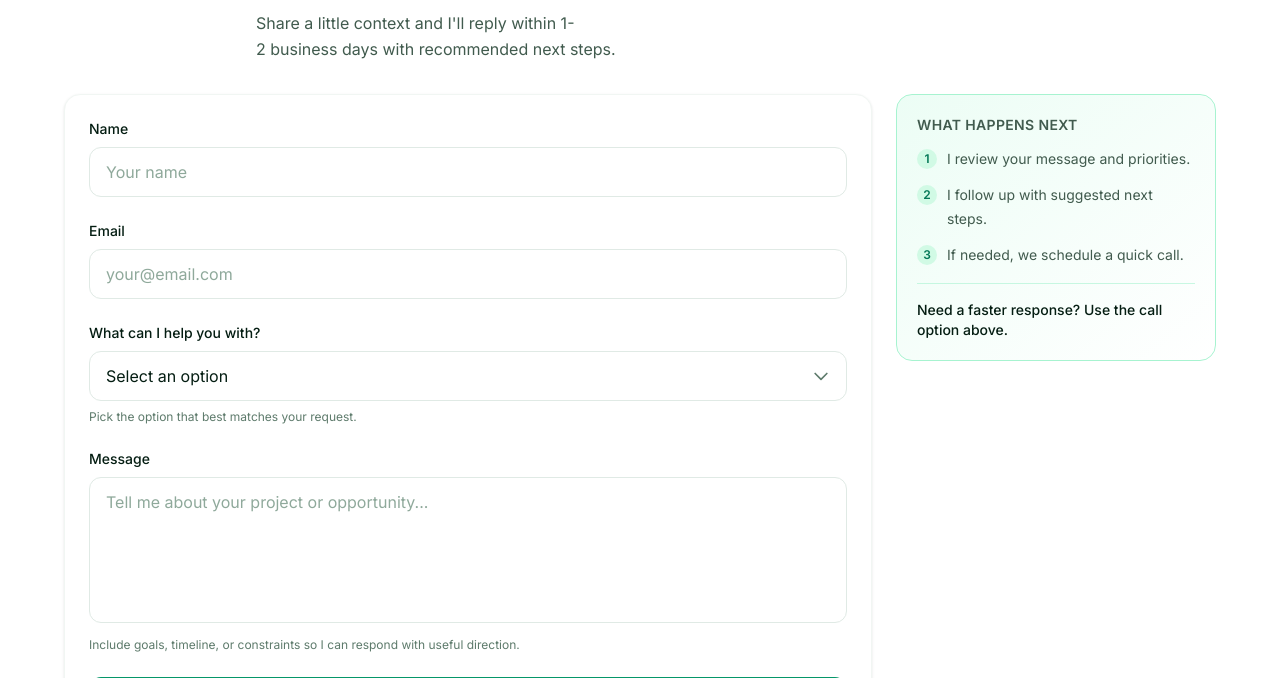
Test: ContactFormSection › submits successfully when Formspree responds with ok
Type "Bradley" into the field labelled "Name" at (468, 172), box [89,147,847,197]
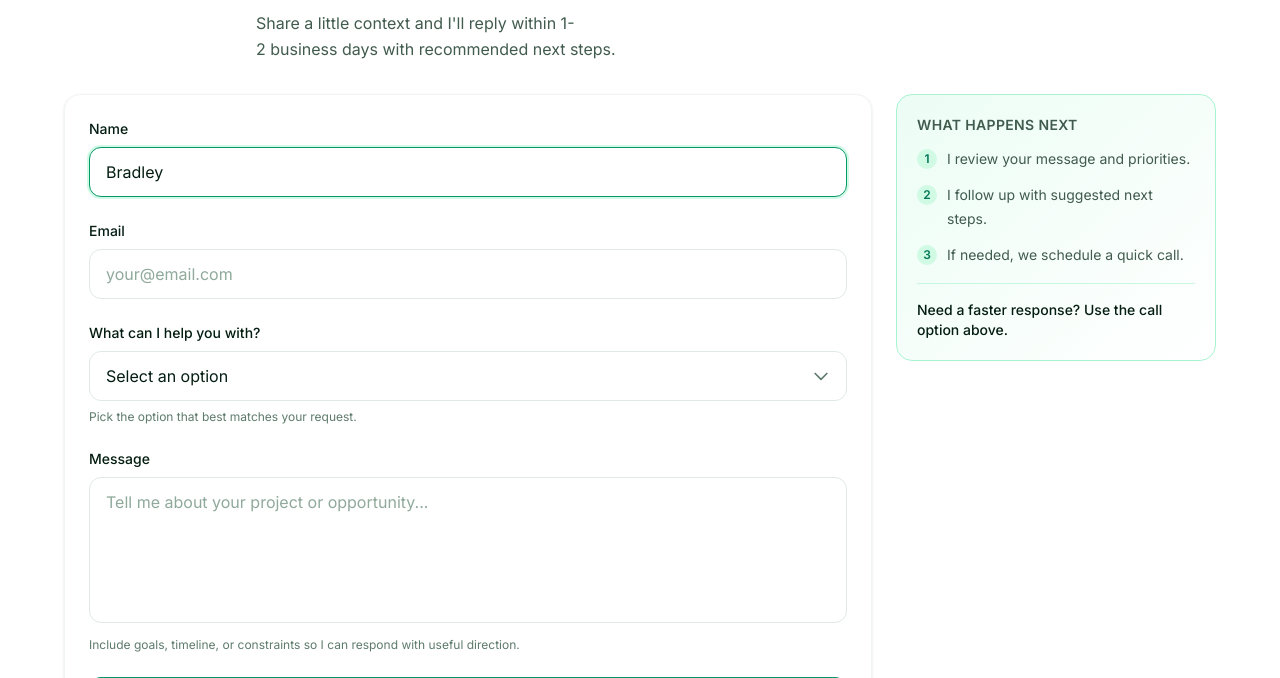
Type "brad@example.com" into the field labelled "Email" at (468, 274), box [89,249,847,299]
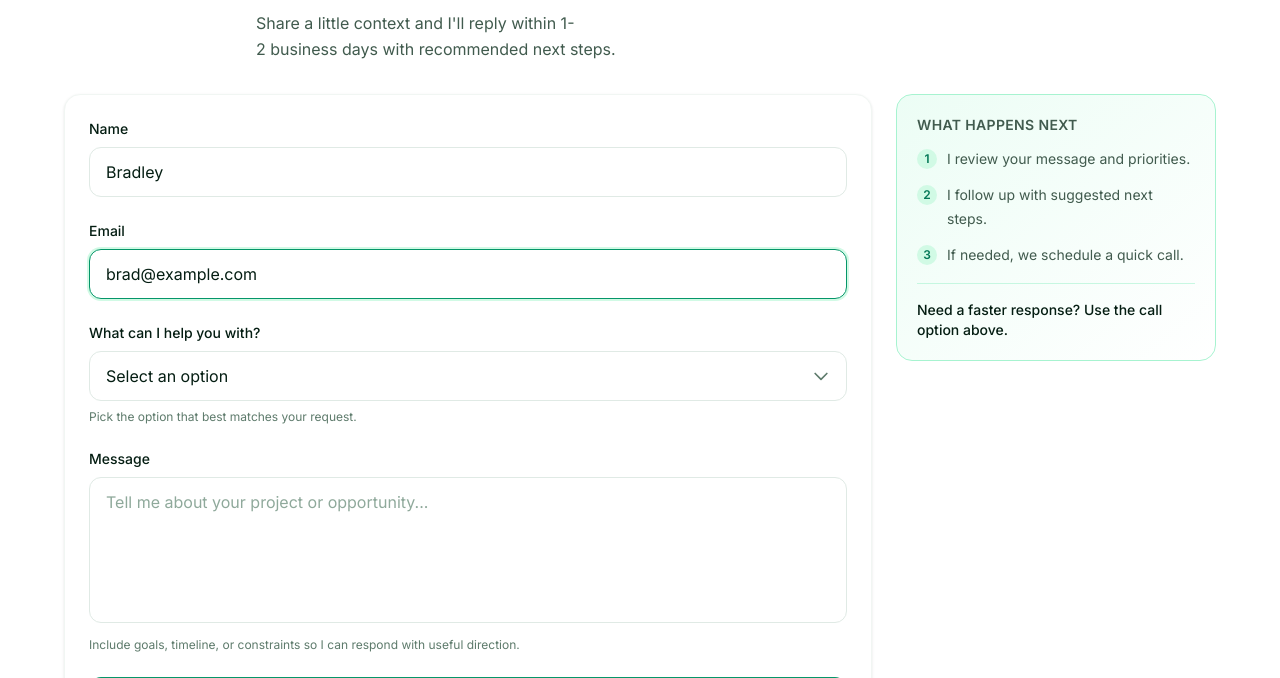
Select "Hiring for full-time role" in the dropdown labelled "What can I help you with?" at (468, 376), box [89,351,847,401]
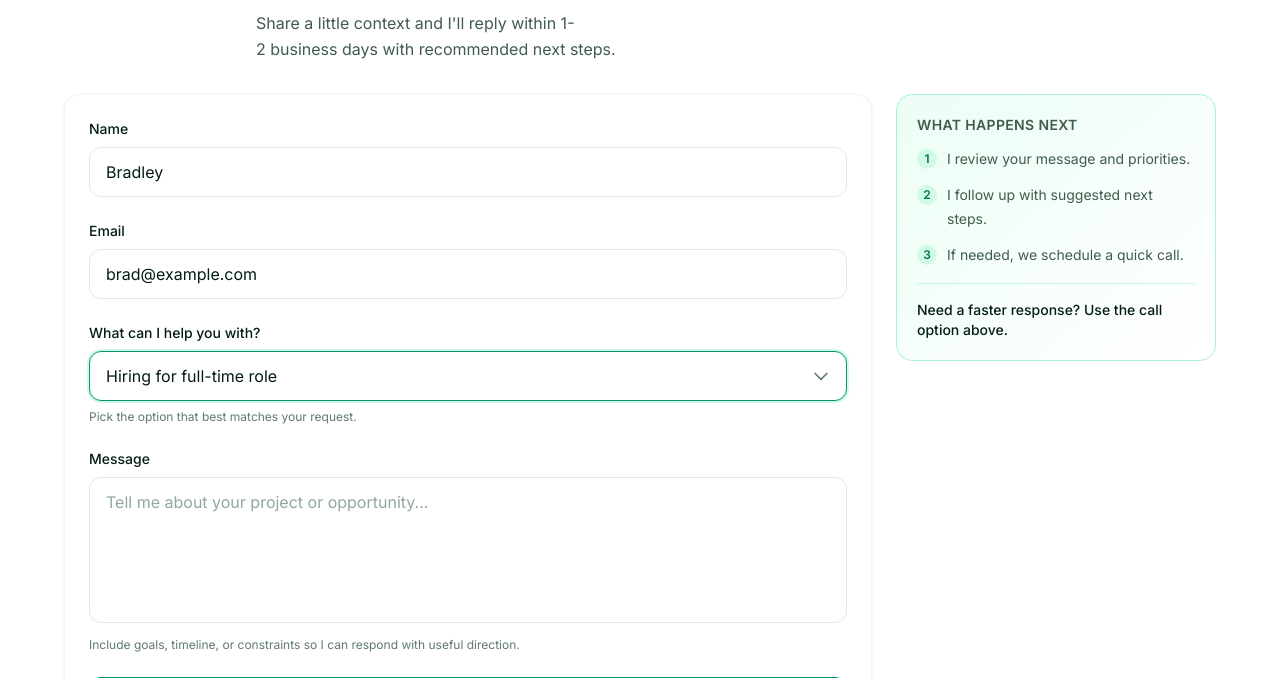
Type "Hello" into the text box labelled "Message" at (468, 550), box [89,477,847,623]
(page scrolled)
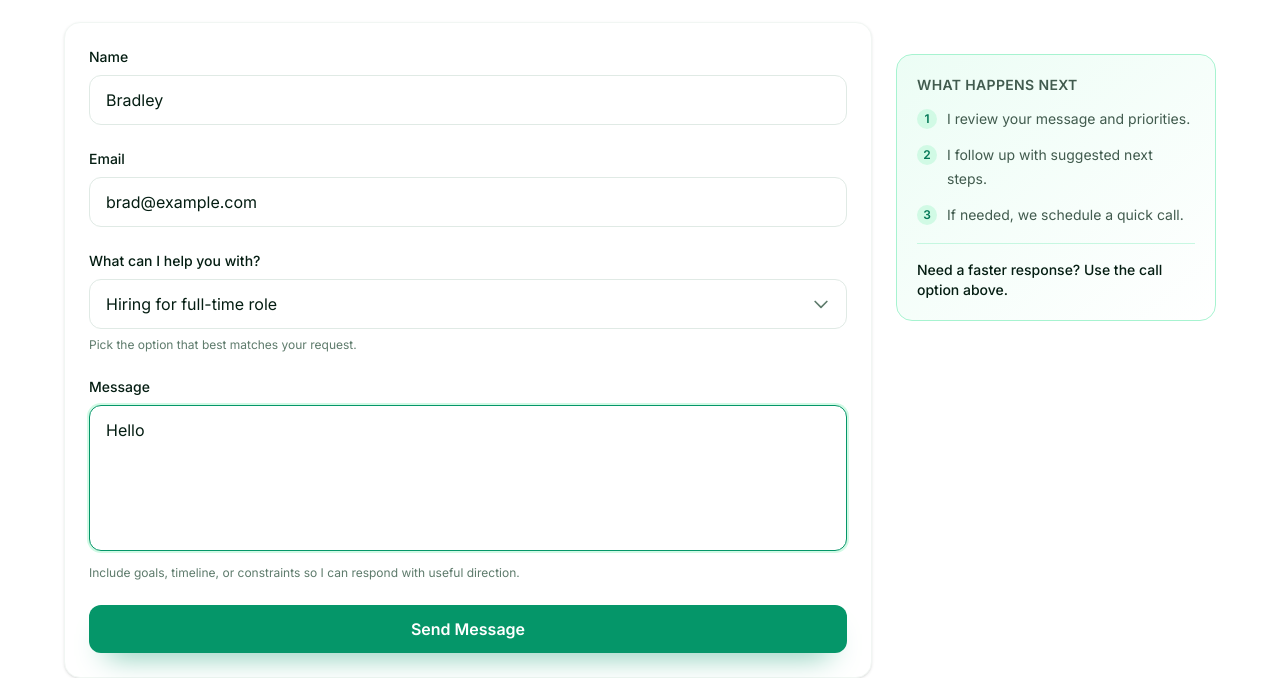
Click the button "Send Message" at (468, 629), box [89,605,847,653]
(page scrolled)
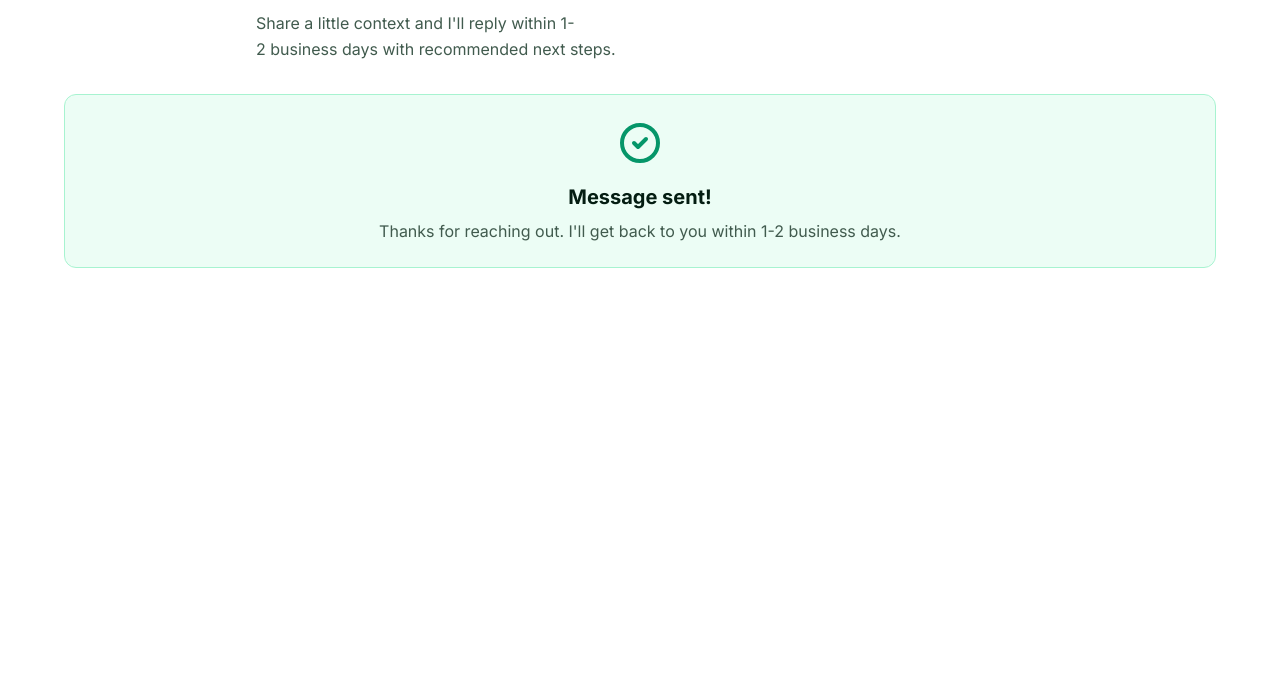
Now the heading "Message sent!" is shown, box [568,185,712,209]
